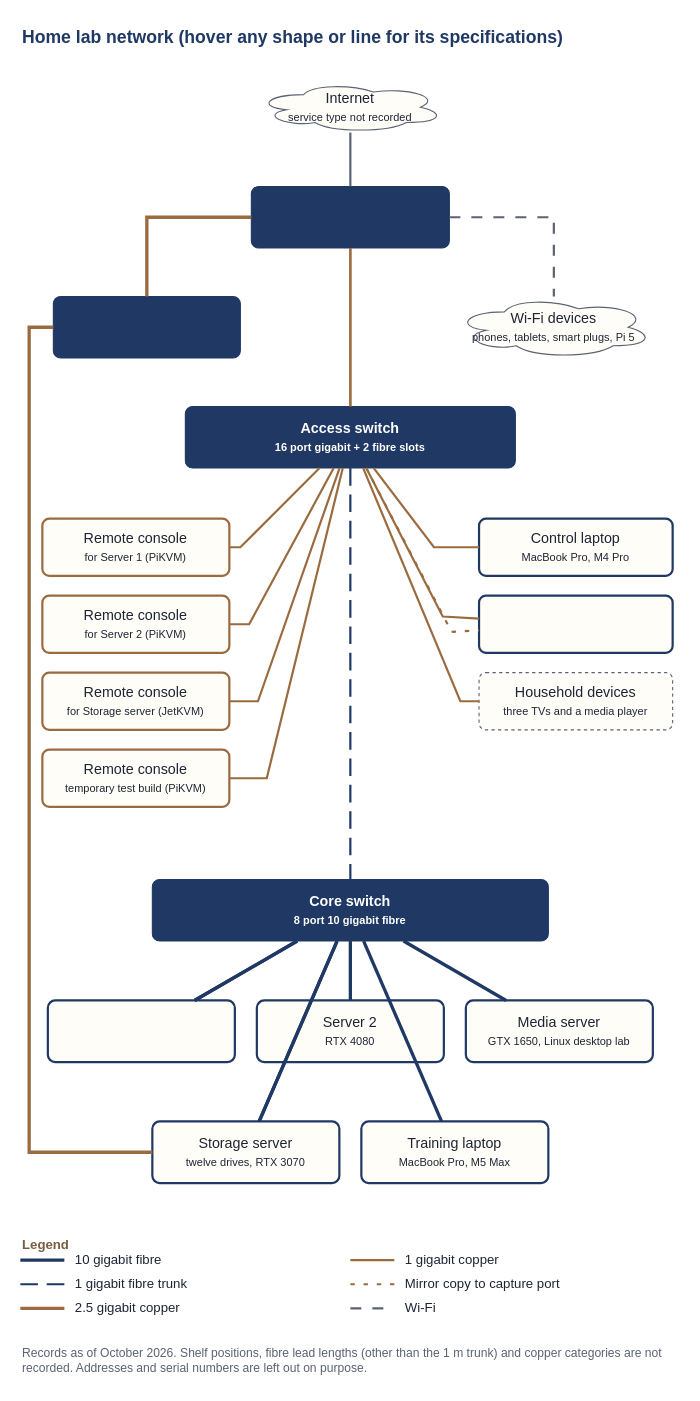
This 700x1401 diagram has some shape labels left out. Each missing label, with the centre of its shape:
Router home router, Wi-Fi 6: point (349, 216)
Security watch laptop MSI laptop running Proxmox: point (575, 623)
Server 1 two RTX 5080 cards: point (140, 1031)
Small switch 5 port 2.5 gigabit, unmanaged: point (146, 326)
